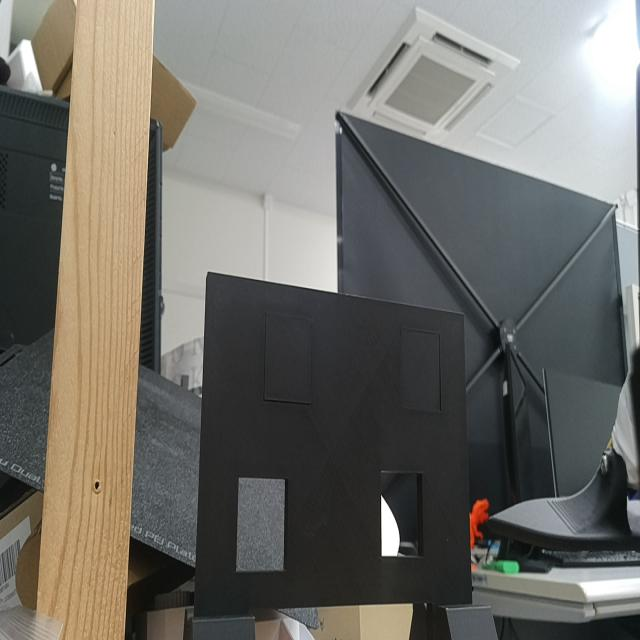Obstacle: (236, 477, 293, 574), (381, 470, 424, 557)
Wall: (194, 273, 470, 619)
